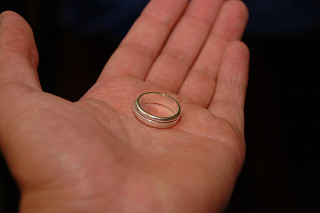palm: (46, 80, 235, 208)
